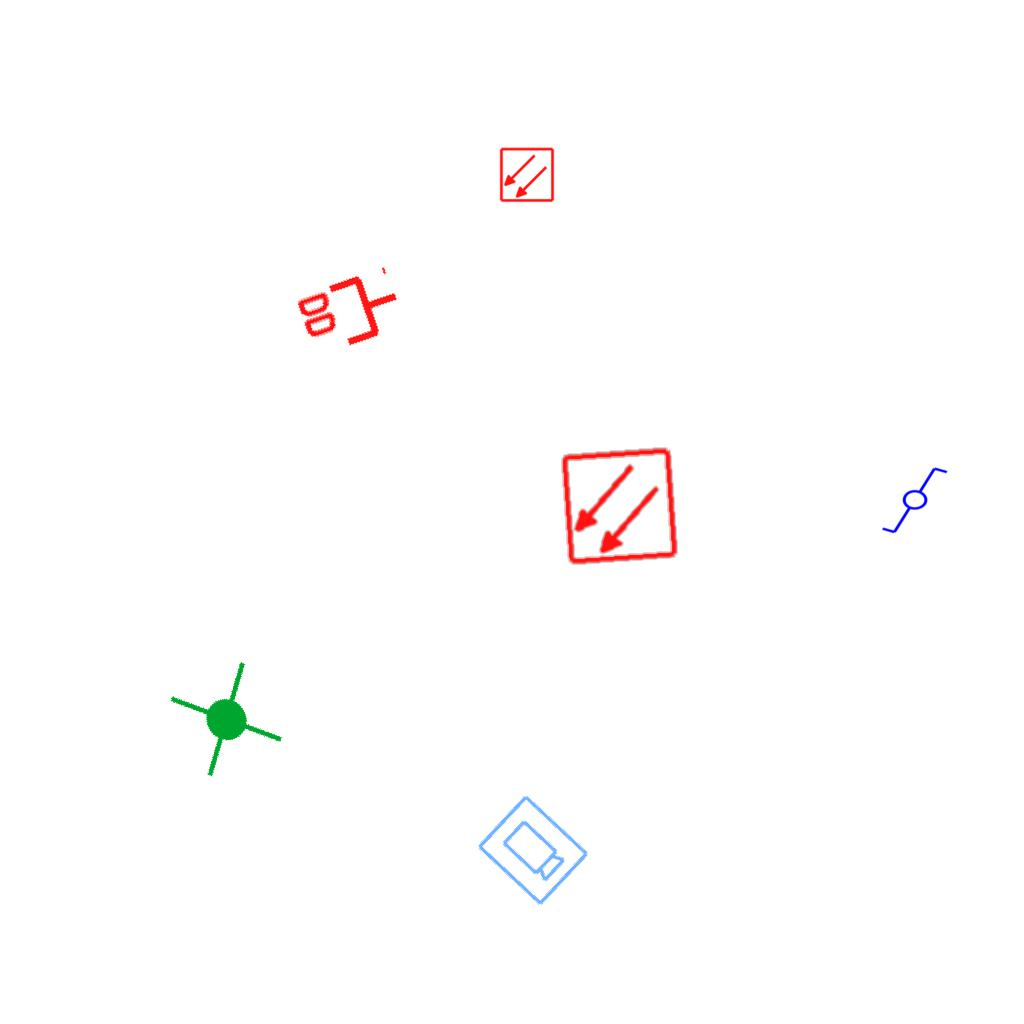Datenanschluss_zweifach: (290, 264, 411, 363)
KFO_Kamera_mit_Festobjektiv: (472, 791, 593, 910)
Notlichtbaustein_in_Allgemeinbeleuchtug_engebaut_Einbau_(1UG_und_2UG_Aufbauvaria: (159, 651, 296, 787)
RMO_Rauchmelder_optischer: (559, 446, 680, 567), (499, 147, 555, 203)
Wechselschalter: (880, 465, 958, 537)
